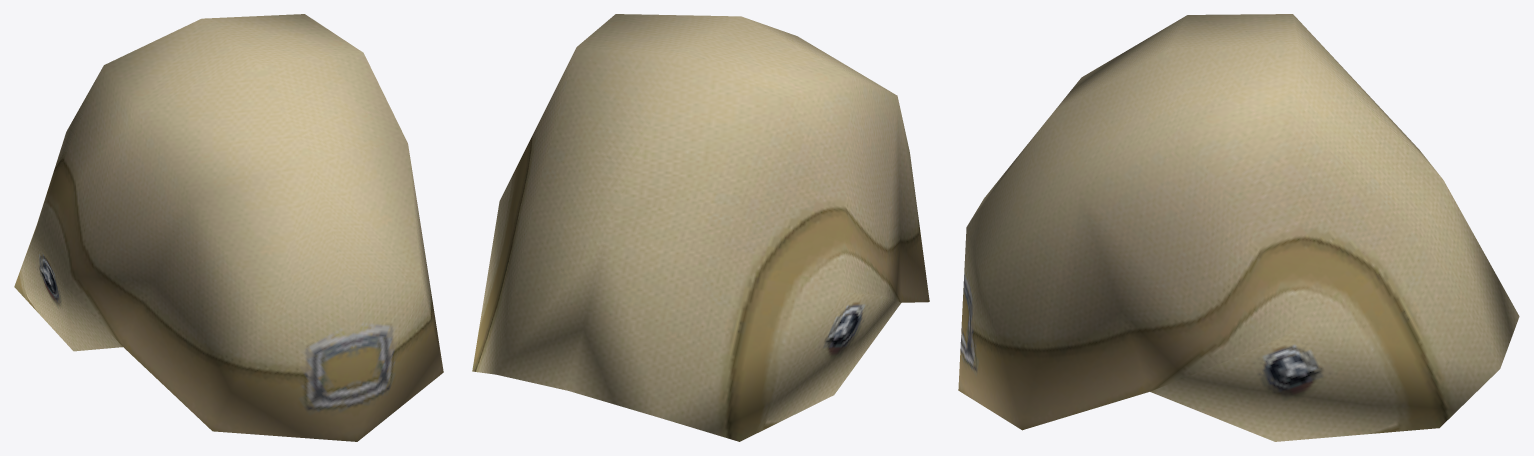
The model's file is Helmet4.glb.
3 renders of one model, left to right at view 1: azimuth 30°, elevation 25°; view 2: azimuth 150°, elevation 25°; view 3: azimuth 270°, elevation 25°, orthographic. The views are drawn at different scales.
Visible parts, largest first — view 1: Helmet4; view 2: Helmet4; view 3: Helmet4.
Part boxes in pixels (left/top/right/bottom): Helmet4: left=14, top=14, right=443, bottom=441; Helmet4: left=472, top=14, right=929, bottom=441; Helmet4: left=958, top=14, right=1519, bottom=441.
Size of the model in its own units: 12.19 by 10.84 by 16.01.
1 material, 1 textured.
